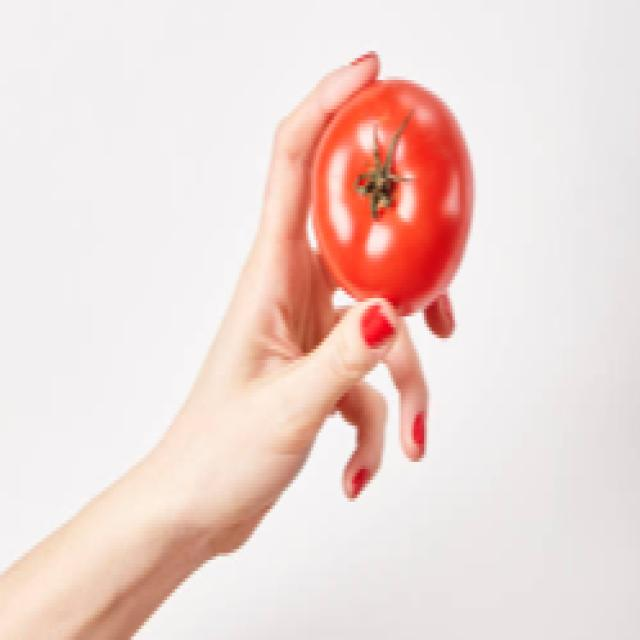Tomato: (314, 70, 474, 299)
